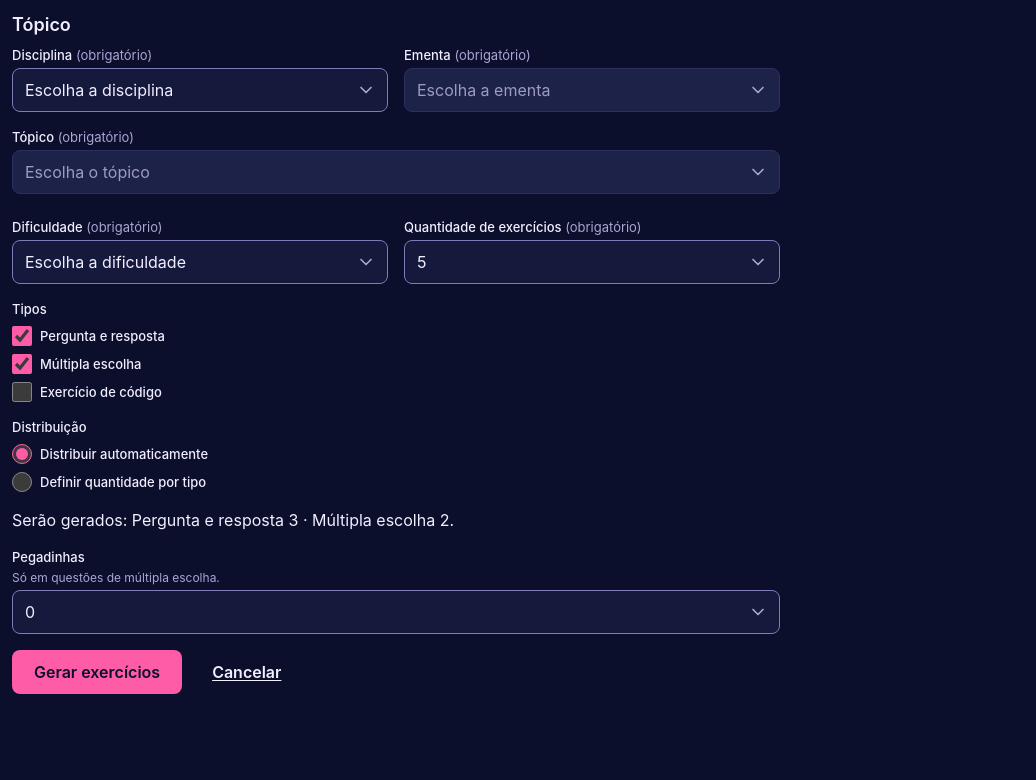
Scenario: 010/US2 GenerationForm — Criar com IA › validação espelhada: sem tópico nem dificuldade, erro por campo e no resumo, sem pedido
This screenshot has width=1036, height=780.
Expected: the dropdown labelled "Disciplina (obrigatório)" is shown, [12,68,388,112]
Click the button "Gerar exercícios": (97, 672) [12,650,182,694]
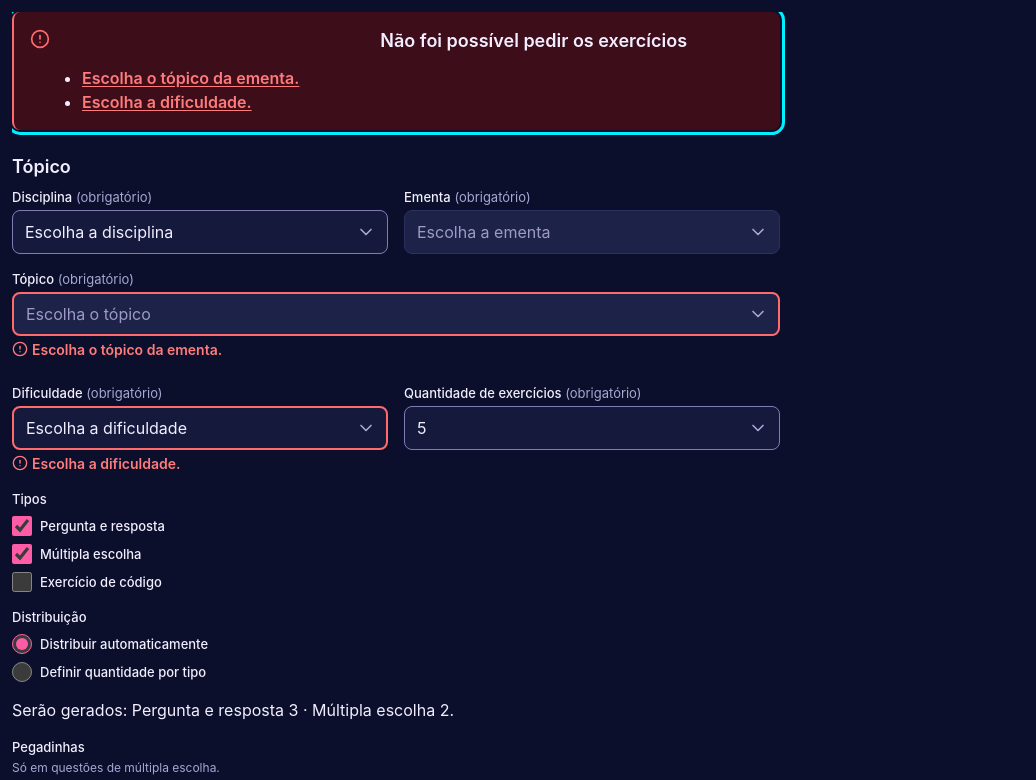
Expected: the element "Não foi possível pedir os exercícios" shows "Escolha o tópico da ementa.", [82,68,299,88]
Expected: the element "Não foi possível pedir os exercícios" shows "Escolha a dificuldade.", [82,92,252,112]
